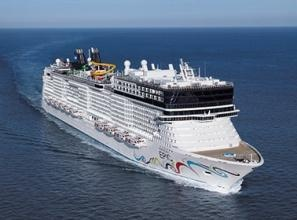youlun: (42, 47, 265, 192)
